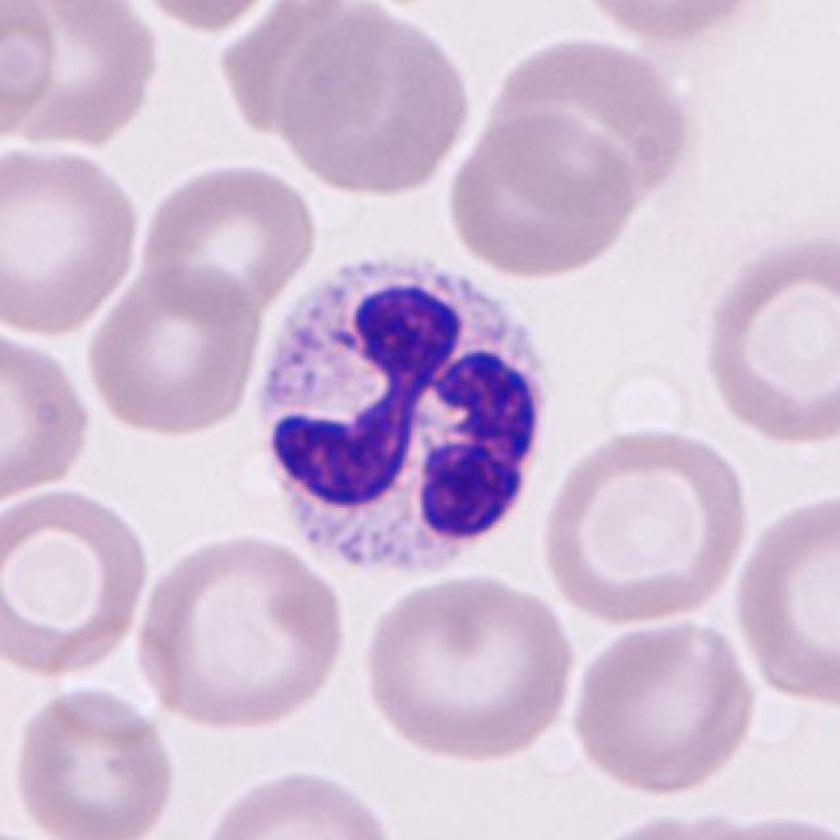neutrophil: (250, 253, 547, 588)
